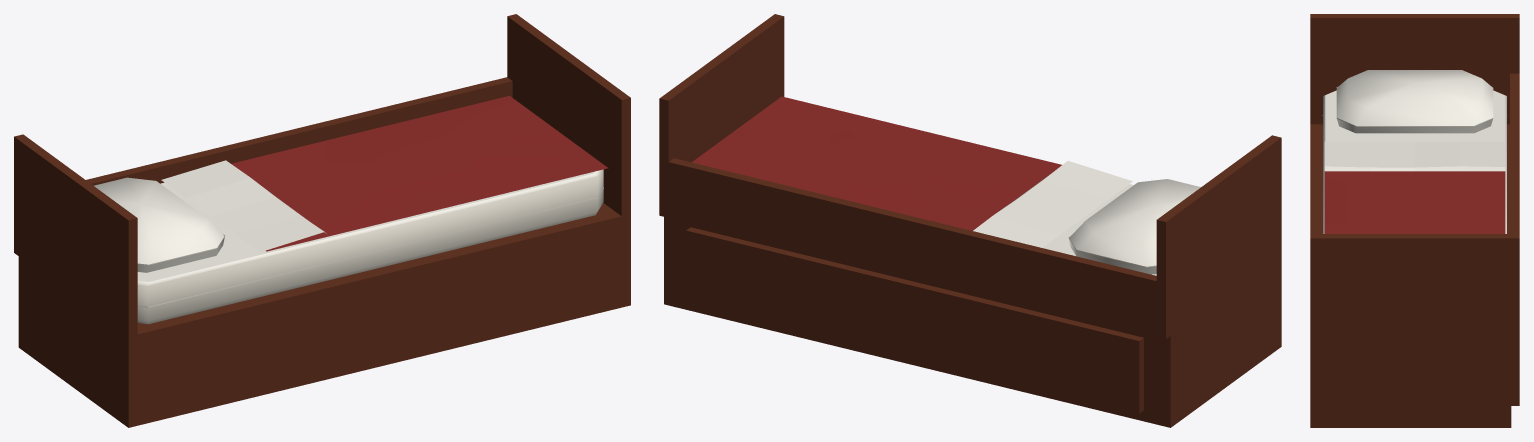
The model's file is parametric-berth-2nd.glb.
The picture shows the model from 3 angles, left to right: view 1: azimuth 30°, elevation 25°; view 2: azimuth 150°, elevation 25°; view 3: azimuth 270°, elevation 25°; orthographic projection. The views are drawn at different scales.
Visible parts, largest first — view 1: parametric-berth-2nd; view 2: parametric-berth-2nd; view 3: parametric-berth-2nd.
Boxes of the visible parts, x1,y1,x2,y2 form: parametric-berth-2nd: [14, 14, 630, 427]; parametric-berth-2nd: [659, 14, 1281, 427]; parametric-berth-2nd: [1310, 14, 1519, 427].
Bounding box in the file's own units: 1.9 × 0.75 × 0.75.
